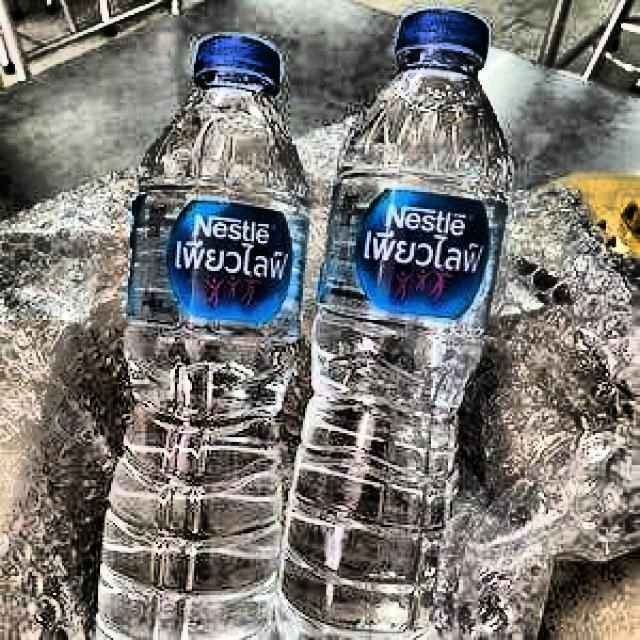Bottles: (284, 6, 514, 640), (89, 27, 288, 640)
